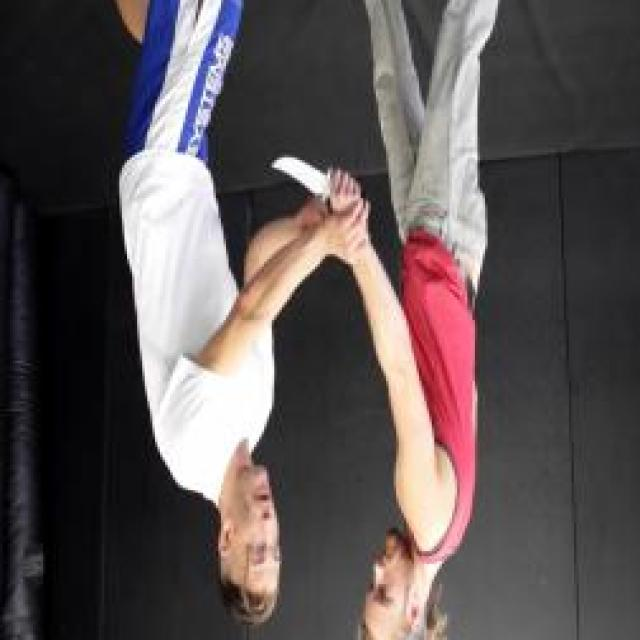knife: (266, 137, 368, 216)
